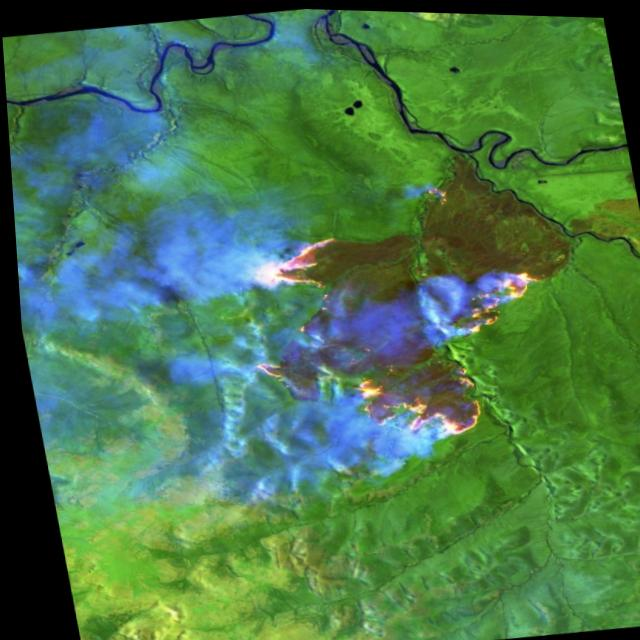fire: (213, 161, 570, 469)
